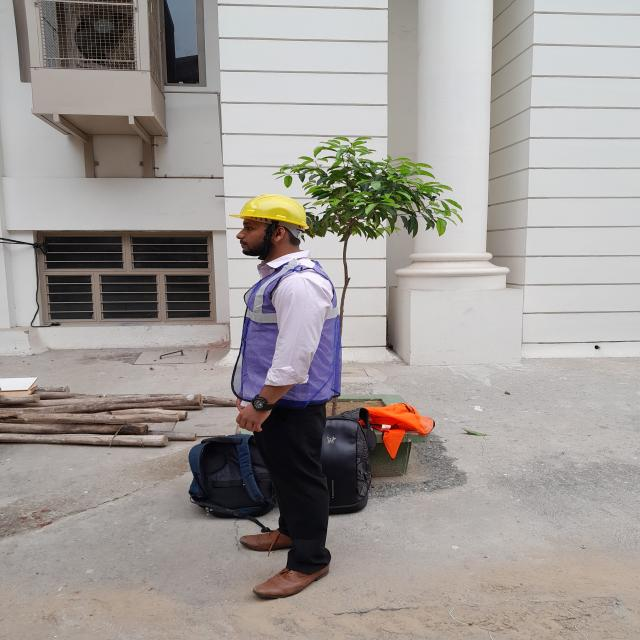safe: (223, 194, 350, 599)
